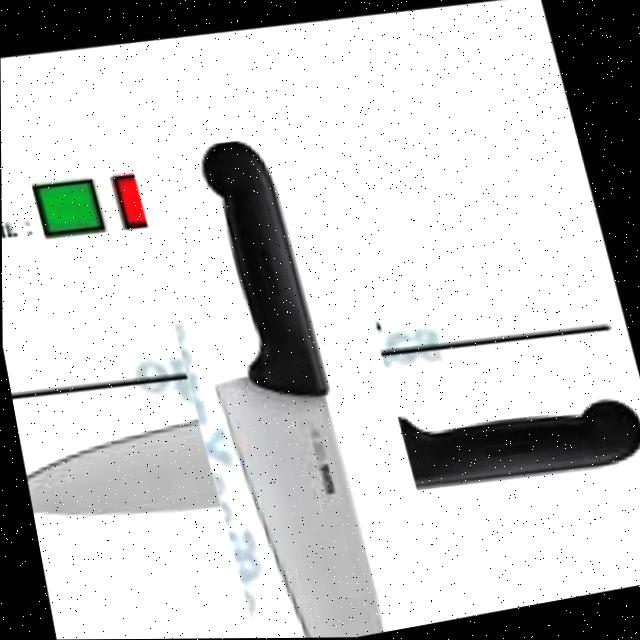knife: (20, 337, 640, 576), (169, 127, 384, 639)
